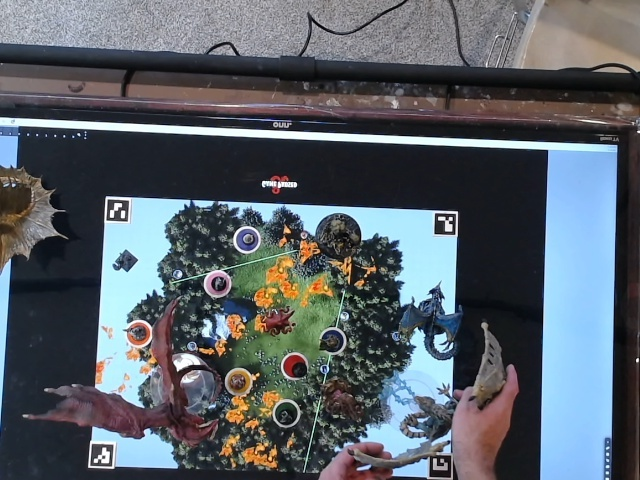blue: (316, 323, 350, 357)
green: (271, 394, 304, 426)
orange: (126, 316, 156, 346)
pink: (197, 267, 235, 301)
red: (280, 348, 313, 380)
violet: (231, 224, 263, 256)
yellow: (222, 366, 254, 397)
